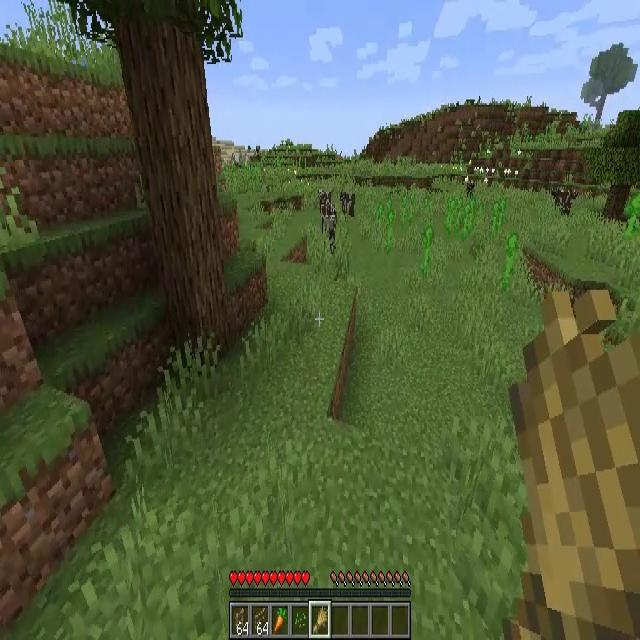cow: (552, 190, 578, 217), (323, 206, 336, 252), (339, 193, 355, 218), (319, 190, 330, 212), (465, 182, 475, 202)
